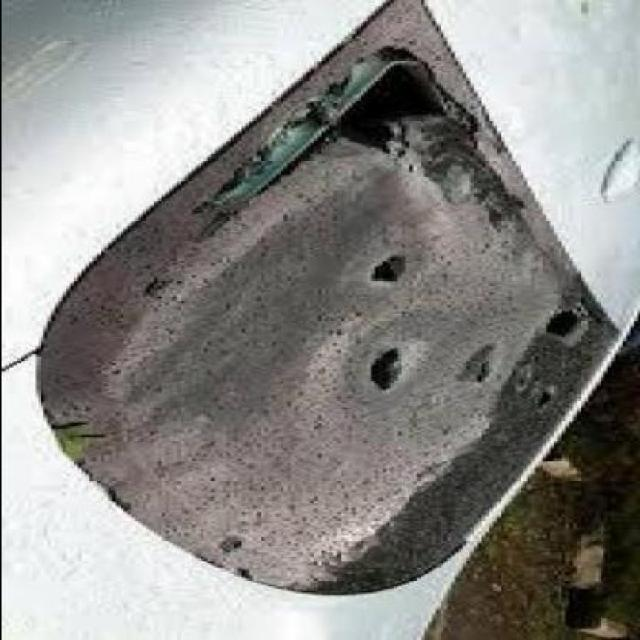damage: (43, 4, 619, 583)
